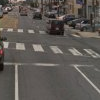crosswalk: (1, 41, 100, 57), (0, 27, 80, 37)
